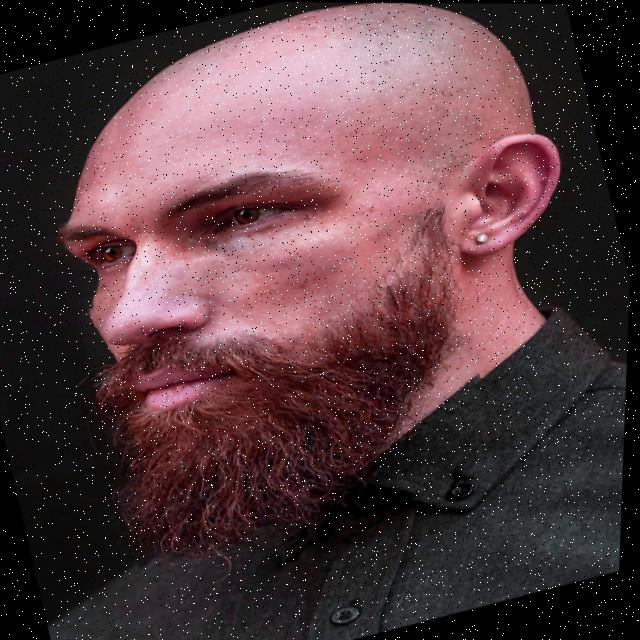beard: (100, 207, 461, 558)
